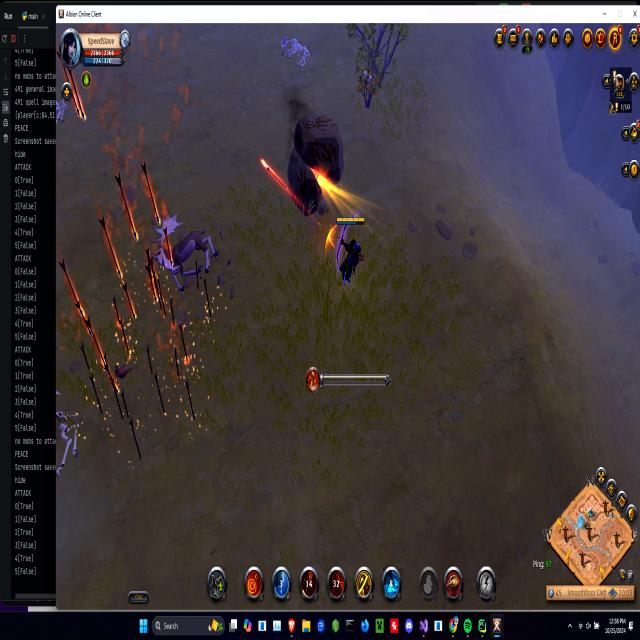hide: (355, 64, 379, 111)
mob: (148, 211, 220, 294)
red: (332, 212, 365, 290)
